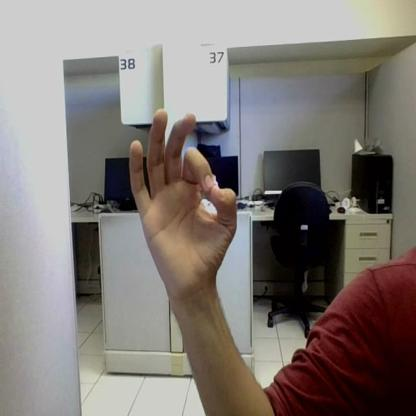F: (131, 109, 237, 289)
